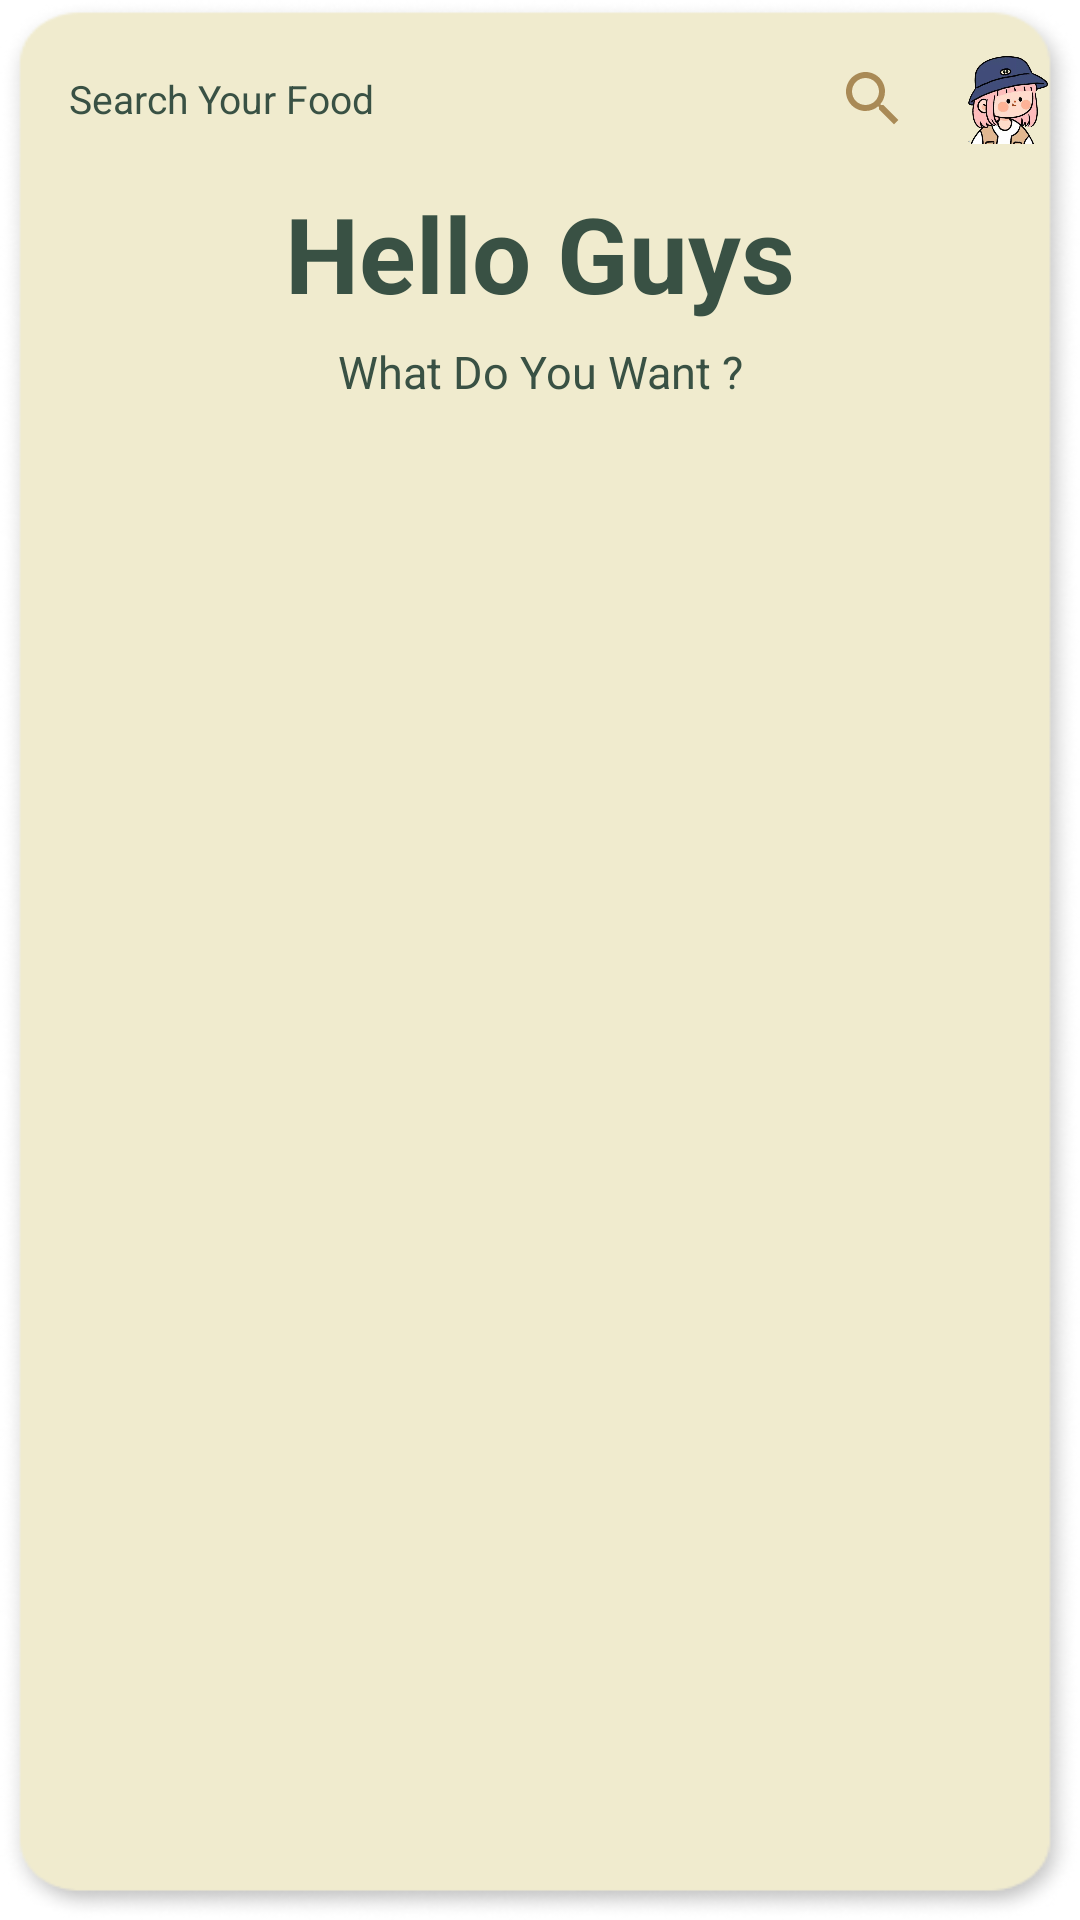

Screen size 1080x1920. Icon name, then its center in pixels as [x,y]:
girl: [1010,107]
